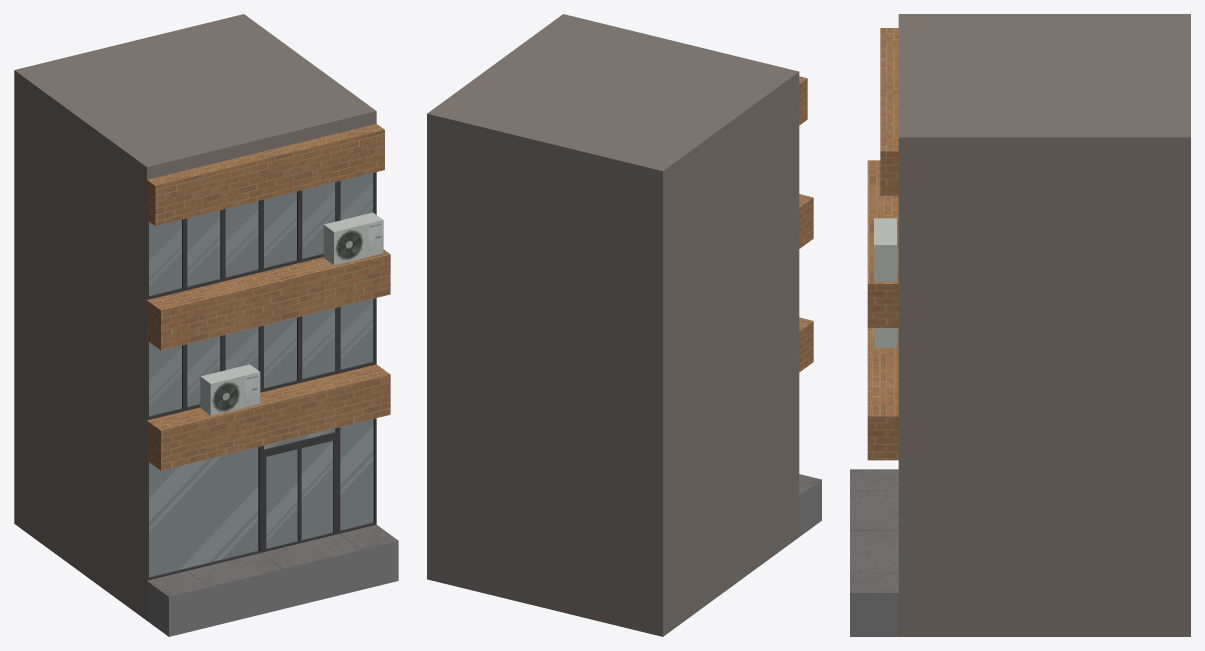
The model's file is mini_building01.dae.
3 renders of one model, left to right at view 1: azimuth 30°, elevation 25°; view 2: azimuth 150°, elevation 25°; view 3: azimuth 270°, elevation 25°, orthographic. The views are drawn at different scales.
Visible parts, largest first — view 1: building01, compressor01, compressor02; view 2: building01; view 3: building01, compressor01.
Part boxes in pixels (x1=…): building01: x1=14, y1=14, x2=398, y2=636; compressor01: x1=323, y1=212, x2=383, y2=265; compressor02: x1=200, y1=364, x2=260, y2=415; building01: x1=427, y1=14, x2=821, y2=636; building01: x1=850, y1=14, x2=1190, y2=636; compressor01: x1=874, y1=218, x2=896, y2=281.
Bounding box in the file's own units: 6 × 11.32 × 7.
